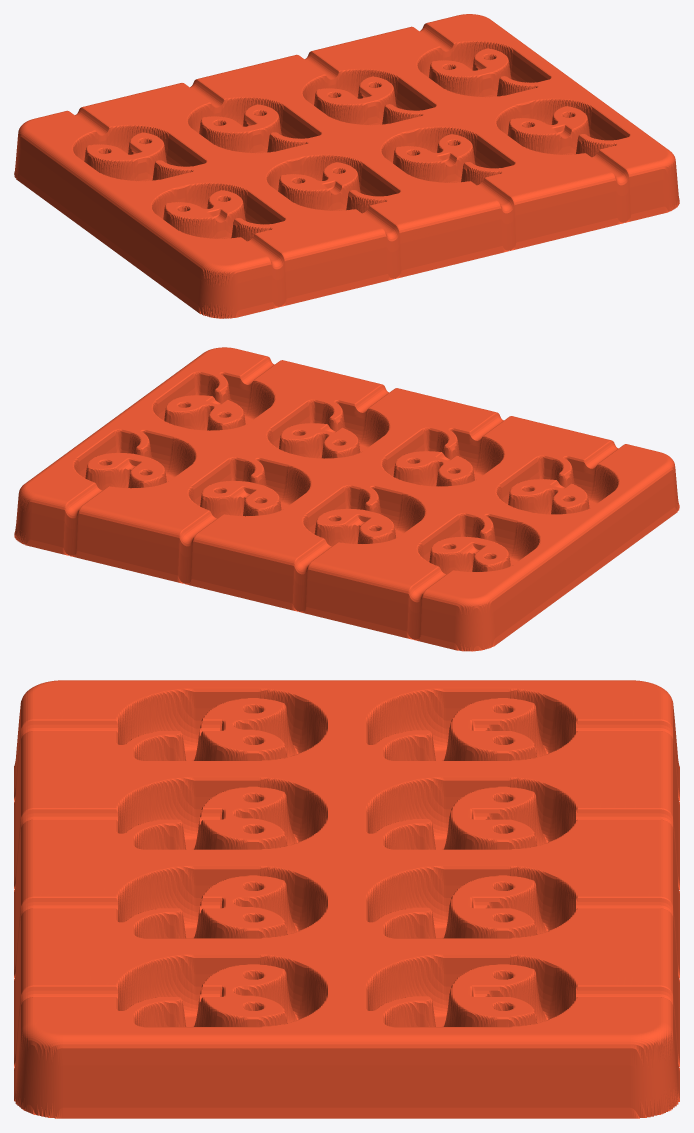
Rendered from mold.glb.
3 renders of one model, top to bottom at view 1: azimuth 30°, elevation 25°; view 2: azimuth 150°, elevation 25°; view 3: azimuth 270°, elevation 25°, orthographic. The views are drawn at different scales.
Parts seen in each view (by area): view 1: geometry_0; view 2: geometry_0; view 3: geometry_0.
Part boxes in pixels (x1=…): geometry_0: x1=14, y1=14, x2=679, y2=318; geometry_0: x1=14, y1=347, x2=679, y2=651; geometry_0: x1=14, y1=680, x2=679, y2=1118.
Size of the model in its own units: 0.1613 by 0.0155 by 0.1229.
